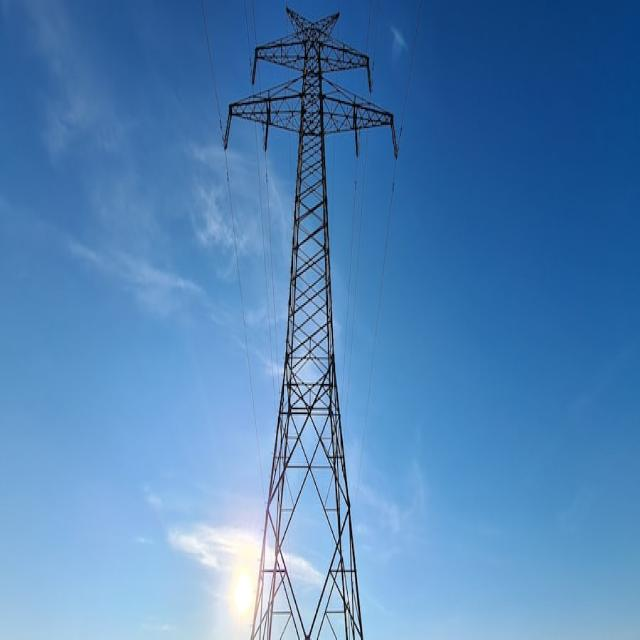transmission tower: (188, 16, 462, 640)
